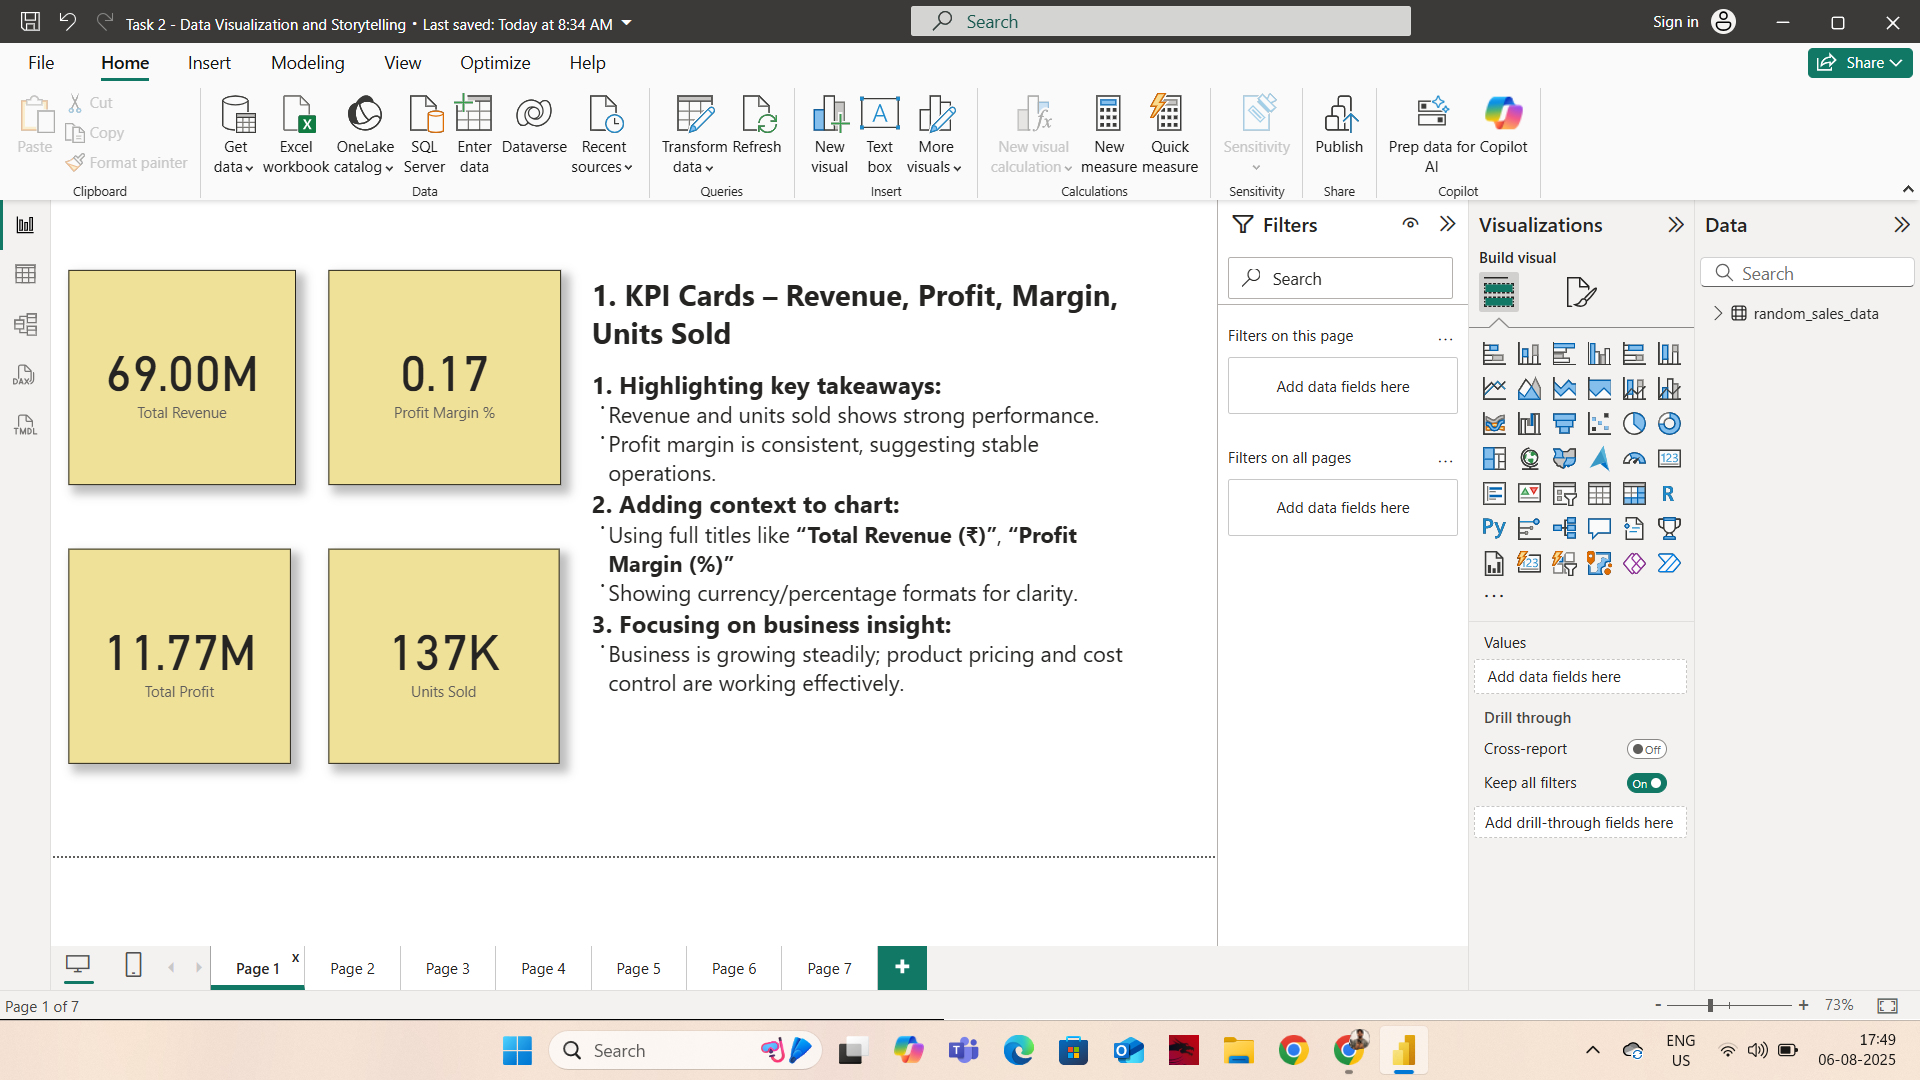

What the dashboard file says about the page in this screenshot:
{"tool":"powerbi","page":{"name":"Page 1","canvas":[1280,720],"ordinal":0},"visuals":[{"type":"card","fields":{"Values":["random_sales_data.Total Revenue"]},"box":[19.2,76.8,249.7,236],"z":0},{"type":"card","fields":{"Values":["random_sales_data.Total Profit"]},"box":[19.2,382.8,244.3,236],"z":1000},{"type":"card","fields":{"Values":["random_sales_data.Profit Margin %"]},"box":[304.6,76.8,255.2,236],"z":2000},{"type":"card","fields":{"Values":["random_sales_data.Units Sold"]},"box":[304.6,382.8,253.9,236],"z":3000},{"type":"textbox","box":[588.7,76.8,617.5,521.4],"z":4000}]}

Visuals, with their boxes on the page's 1280x720 design canvas (x1, y1, x2, y2). These are canvas units, not pixel positions in the 1920x1080 screenshot, which may show the page scaled, cropped or inside an application window:
card - random_sales_data.Total Revenue: 19:77:269:313
card - random_sales_data.Total Profit: 19:383:264:619
card - random_sales_data.Profit Margin %: 305:77:560:313
card - random_sales_data.Units Sold: 305:383:558:619
textbox: 589:77:1206:598
